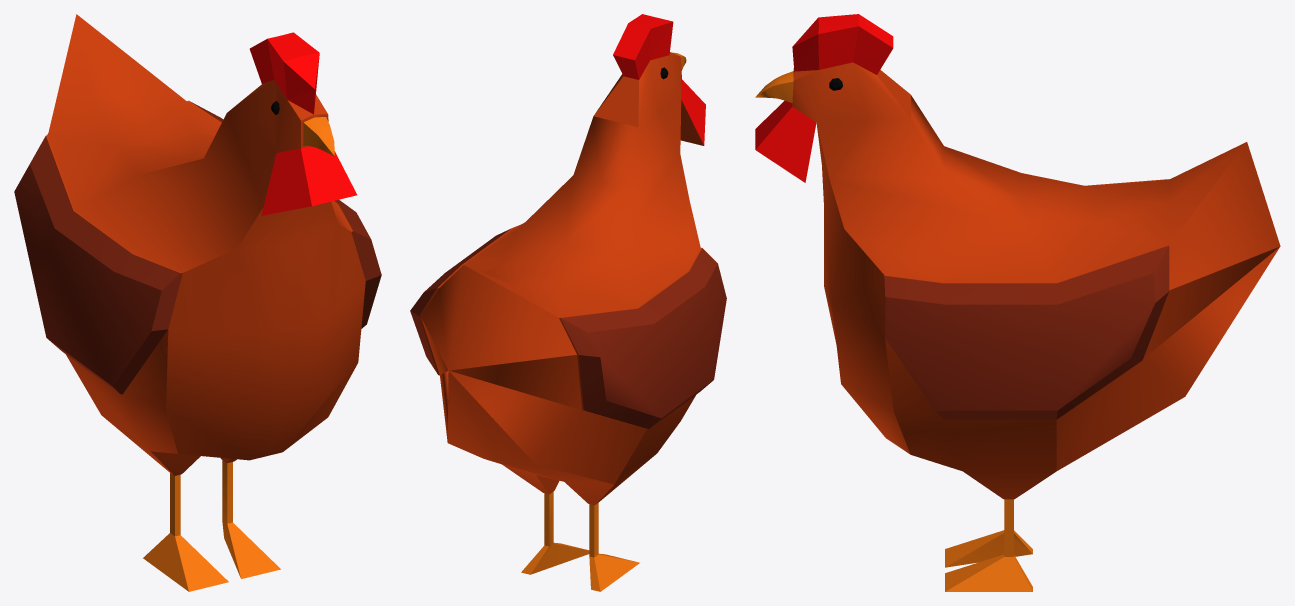
Rendered from Poule_Rousse.FBX.
3 views of the same model, side by side, from view 1: azimuth 30°, elevation 25°; view 2: azimuth 150°, elevation 25°; view 3: azimuth 270°, elevation 25° (orthographic). The views are drawn at different scales.
Parts seen in each view (by area): view 1: Box001; view 2: Box001; view 3: Box001.
Boxes of the visible parts, x1=… form: Box001: x1=14, y1=14, x2=381, y2=591; Box001: x1=410, y1=14, x2=726, y2=591; Box001: x1=755, y1=14, x2=1280, y2=591.
Bounding box in the file's own units: 11.06 × 23.18 × 20.06.
